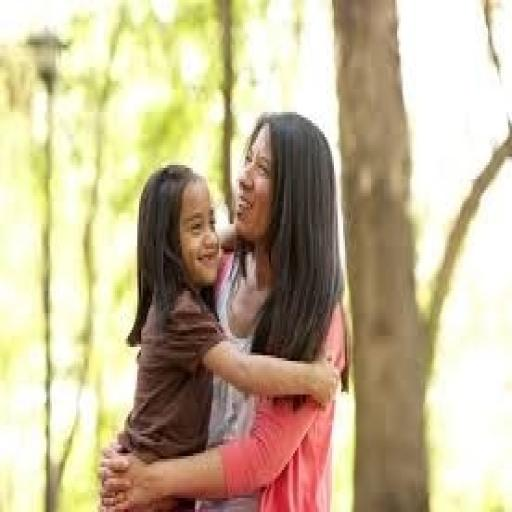hugging: (96, 109, 352, 509)
